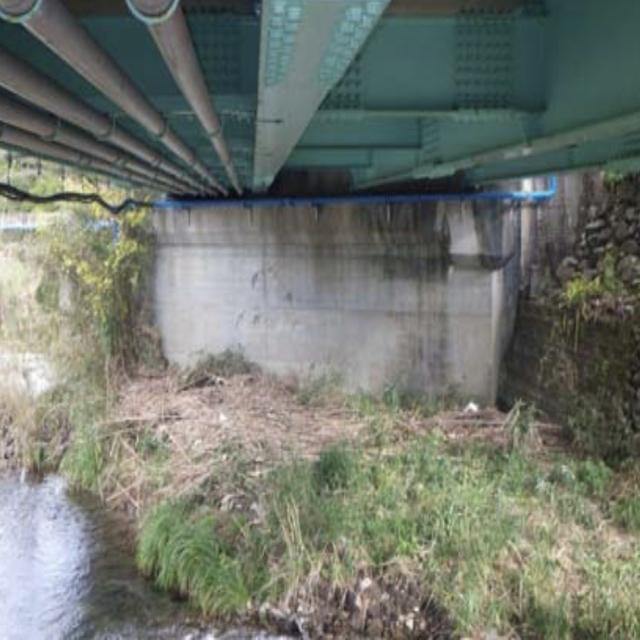leakage: (349, 173, 457, 424)
